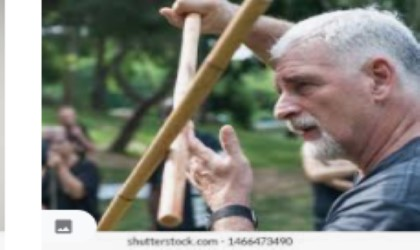baston_e: (96, 4, 285, 217), (154, 16, 205, 185)
baston_v: (150, 190, 198, 234)
